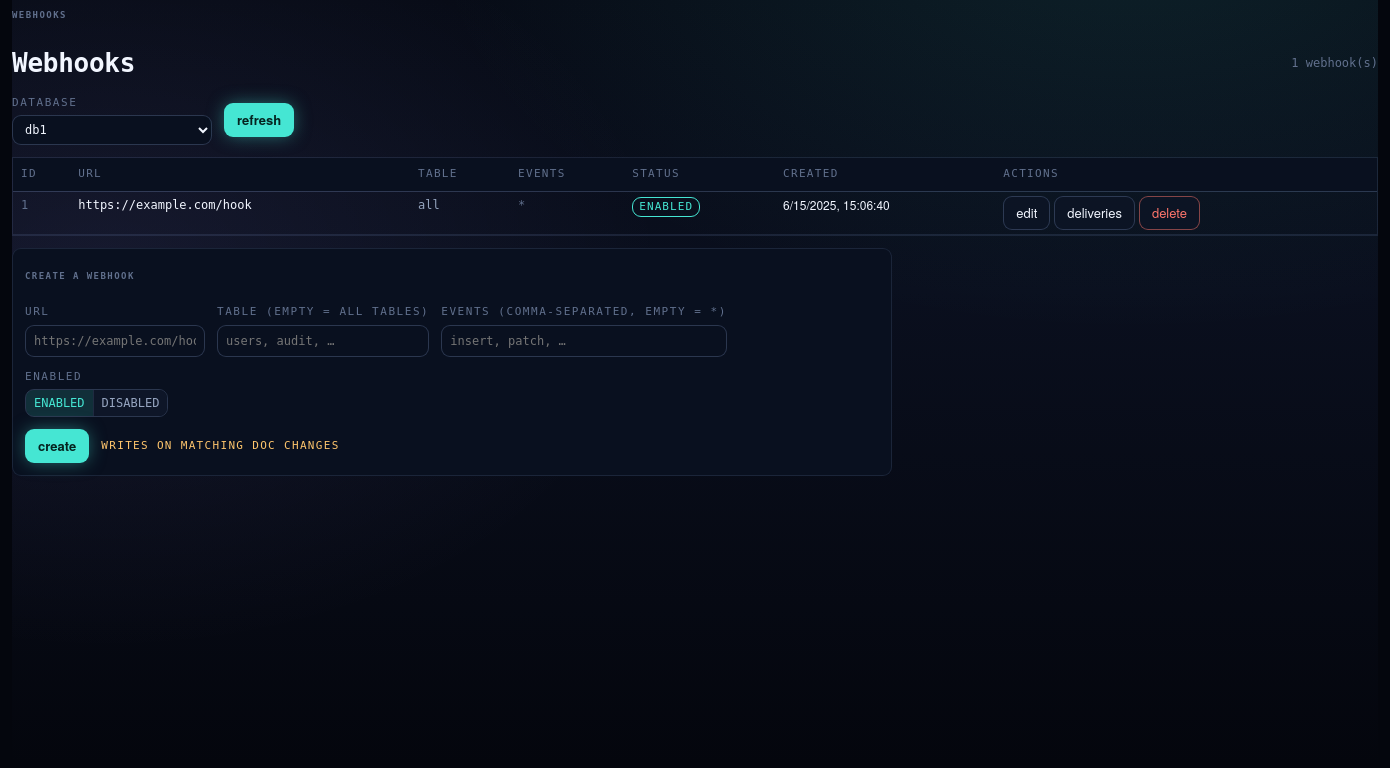
Test case: WebhooksPage › opens the deliveries drill-down and lists delivery rows
Click the button "deliveries" at (1095, 212), box [1054, 196, 1135, 230]
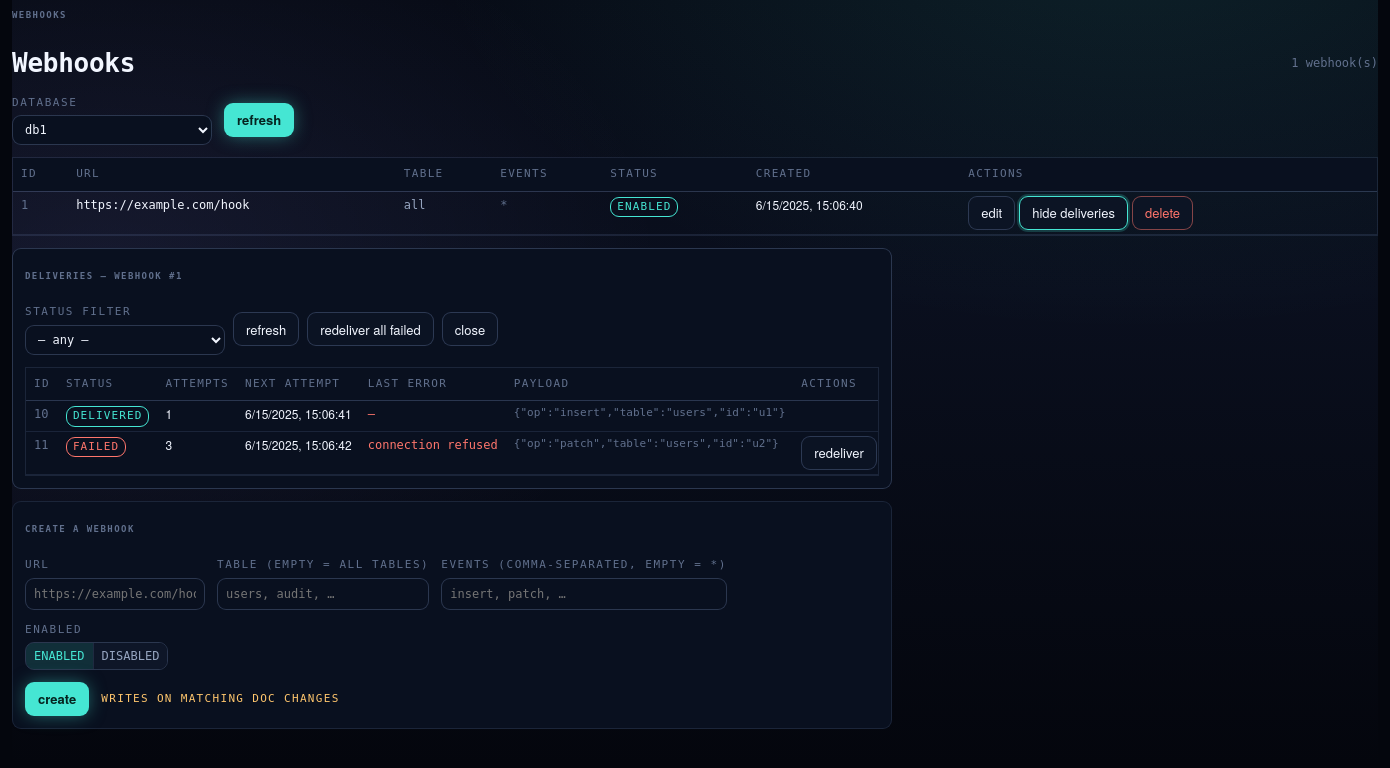
Now the text "Deliveries — webhook #1" is shown, box [25, 270, 183, 280]
Now the text "delivered" is shown, box [66, 406, 149, 426]
Now the text "failed" is shown, box [66, 436, 126, 457]
